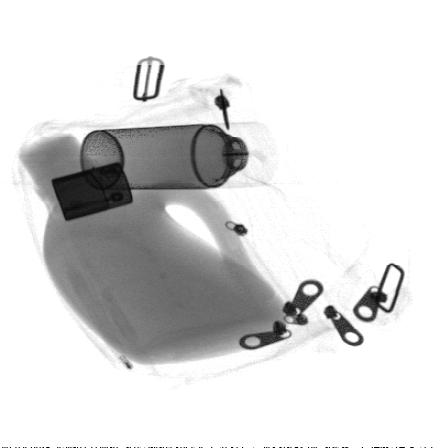Lighter: (51, 163, 134, 221)
Sprayer: (81, 122, 278, 192)
